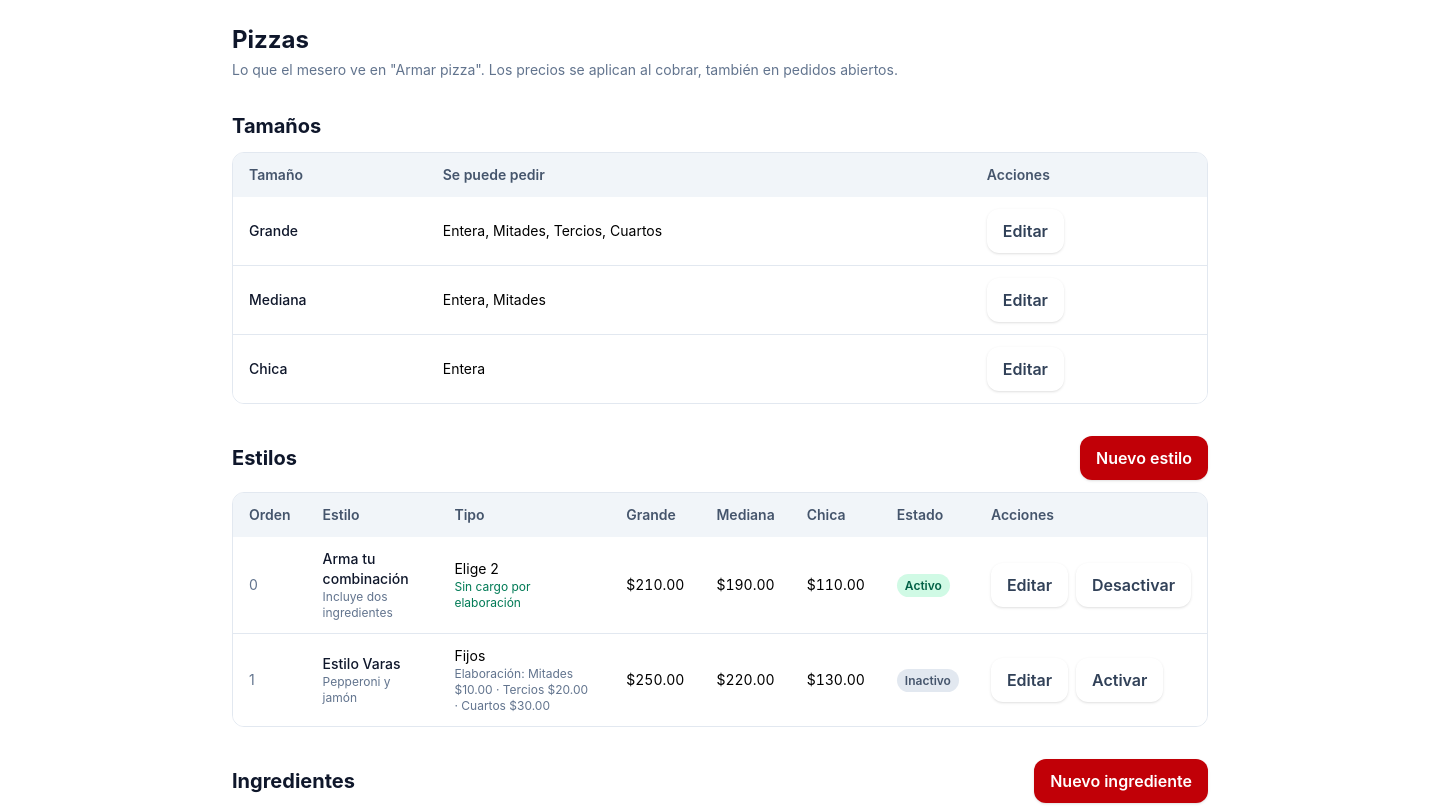
Scenario: AdminPizzasPage ingredients › creates an ingredient and reloads
This screenshot has width=1440, height=810.
Expected: the heading "Pizzas" is shown, [232,25,309,54]
Click the button "Nuevo ingrediente".
click(1121, 781)  # box [1034,759,1208,803]
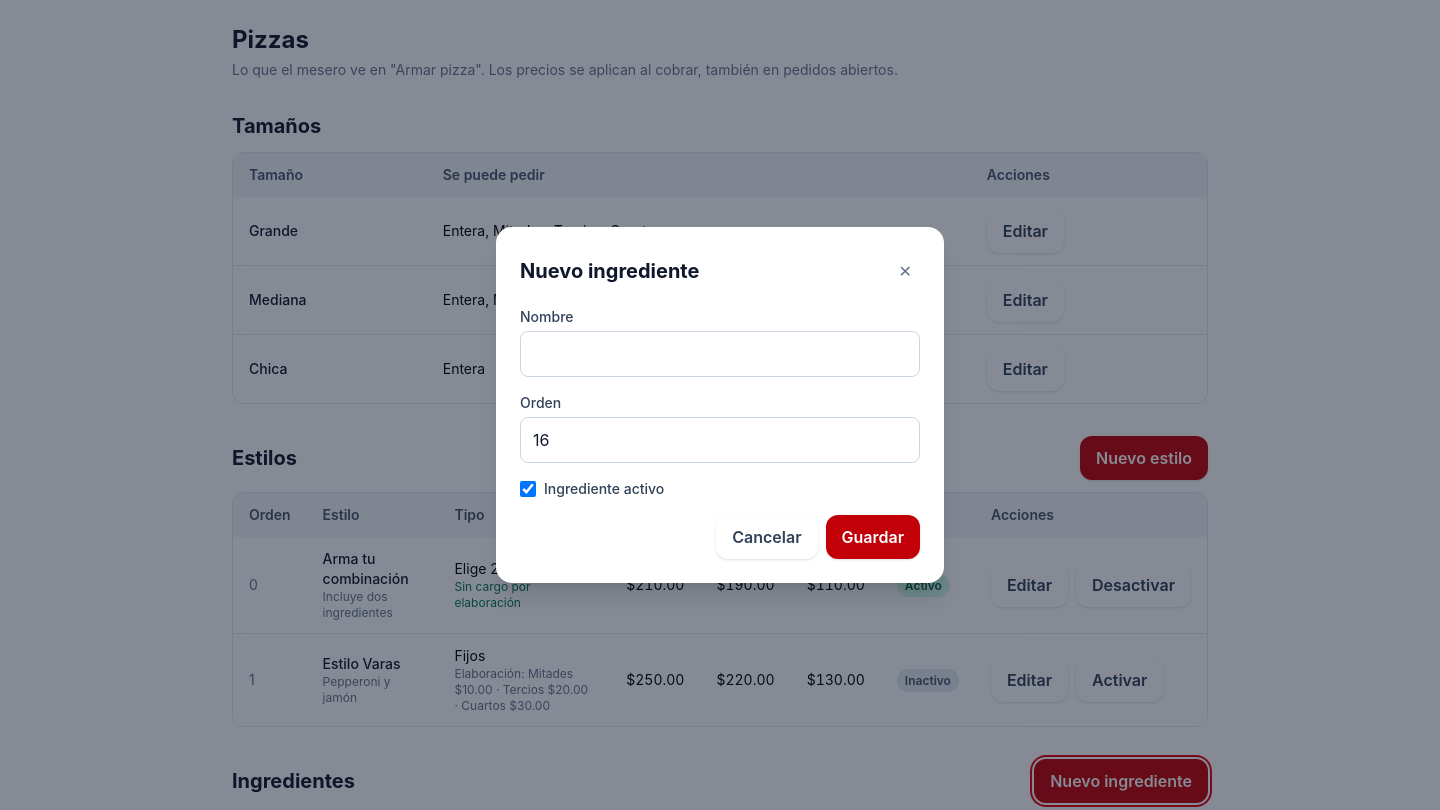
Type "Elote" into the field labelled "Nombre".
click(720, 354); type("Elote")  # box [520,331,920,377]
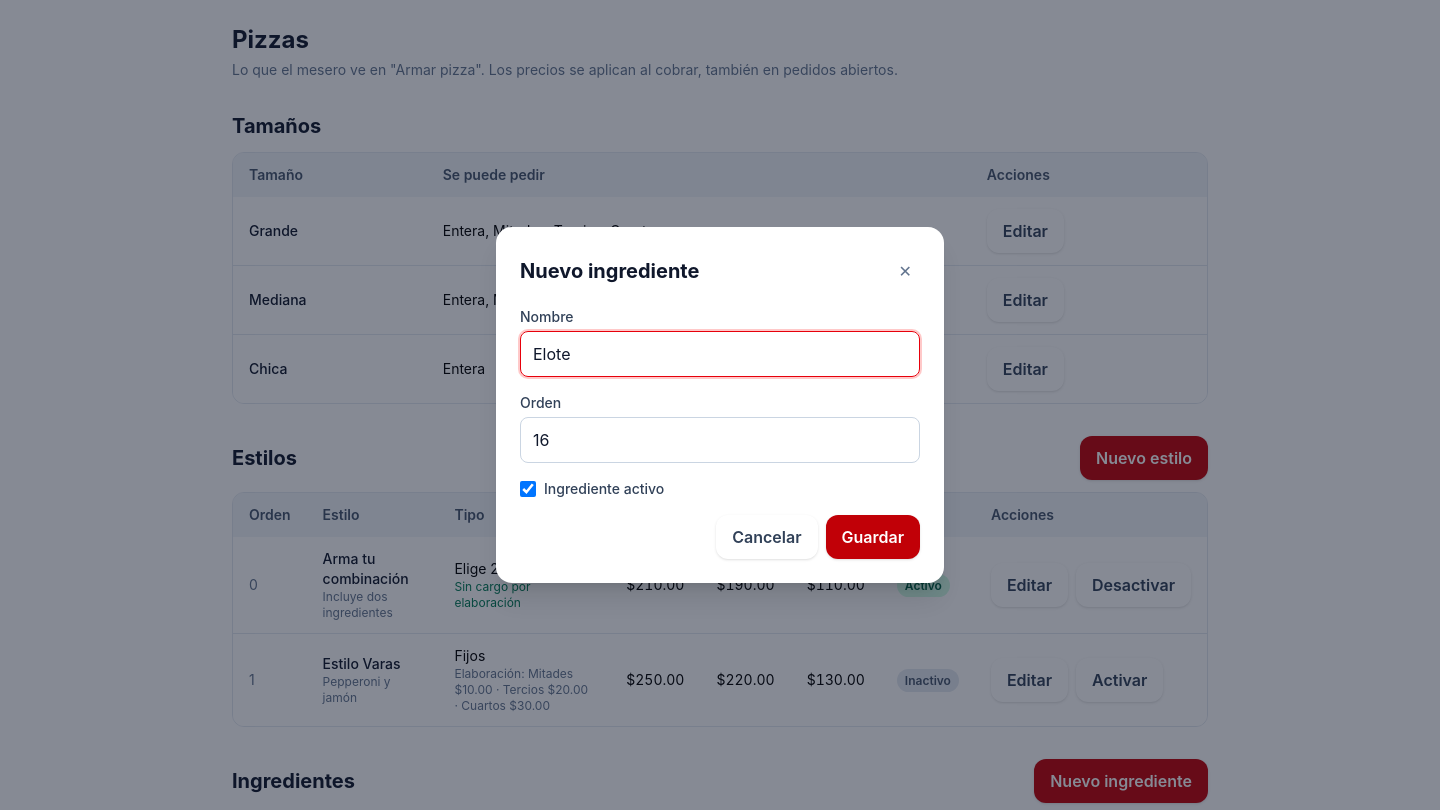
Expected: the field labelled "Orden" holds "16"
Replace the text in the field labelled "Orden" with "20" at [720, 440], box [520,417,920,463]
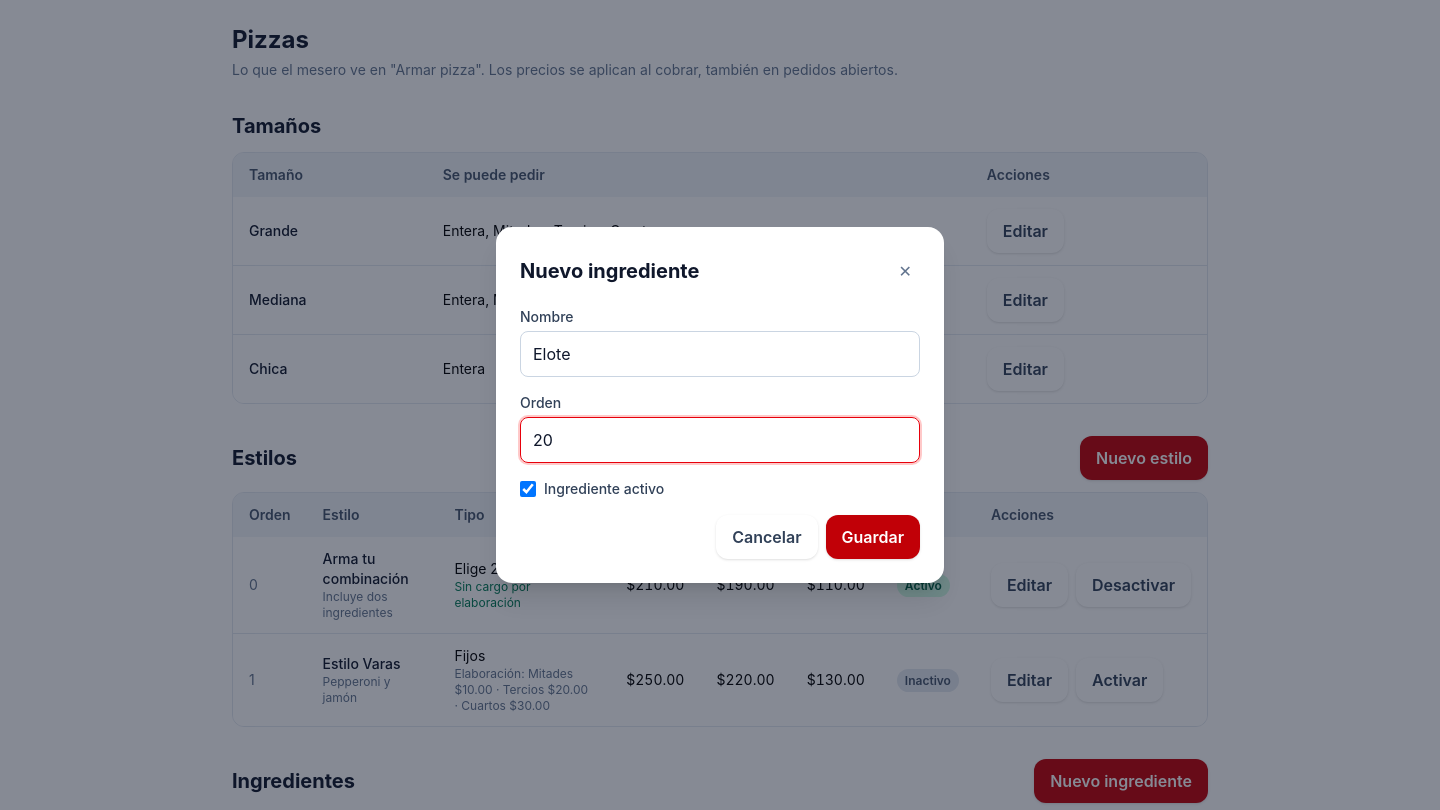
Click the button "Guardar".
click(873, 537)  # box [826,515,920,559]
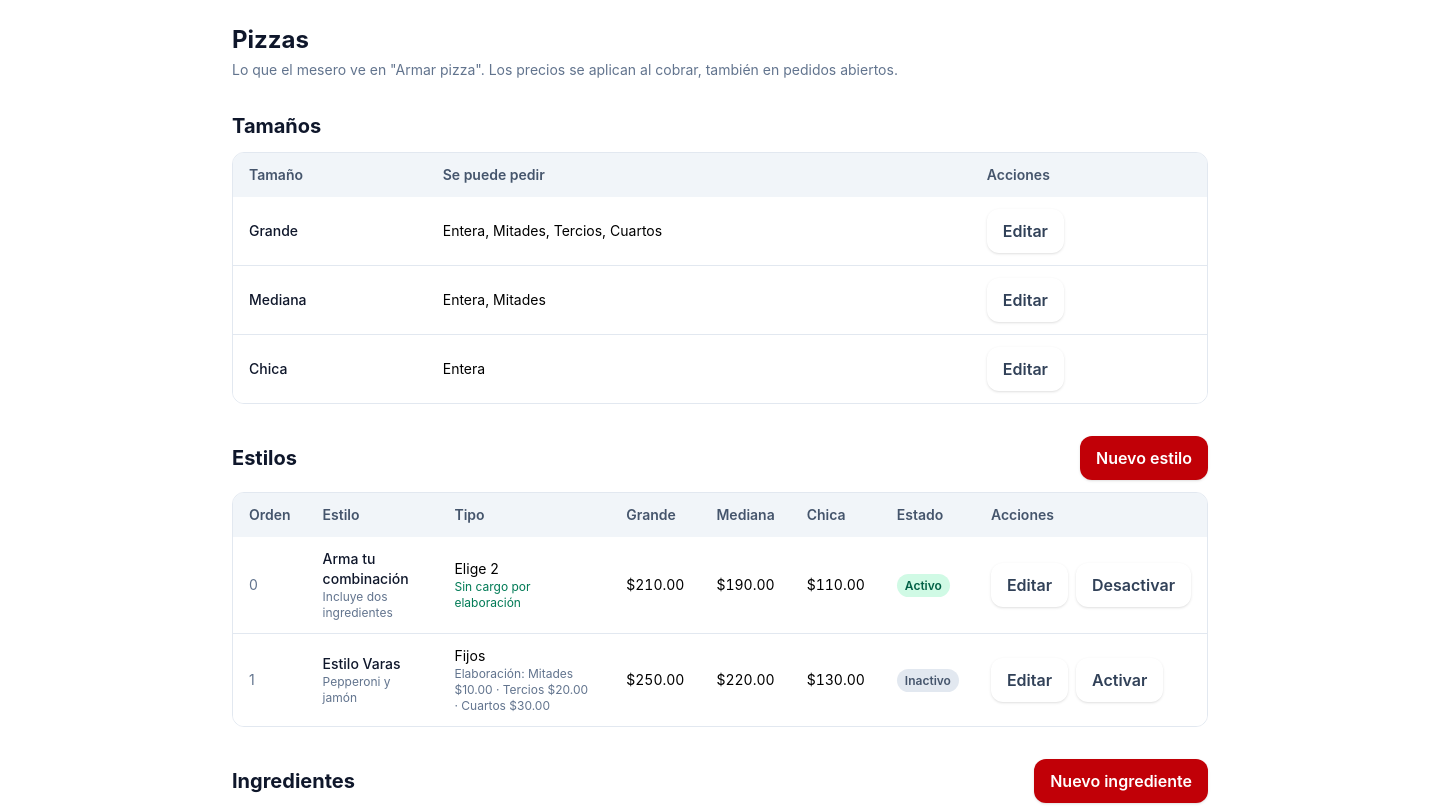
Expected: the dialog is gone
